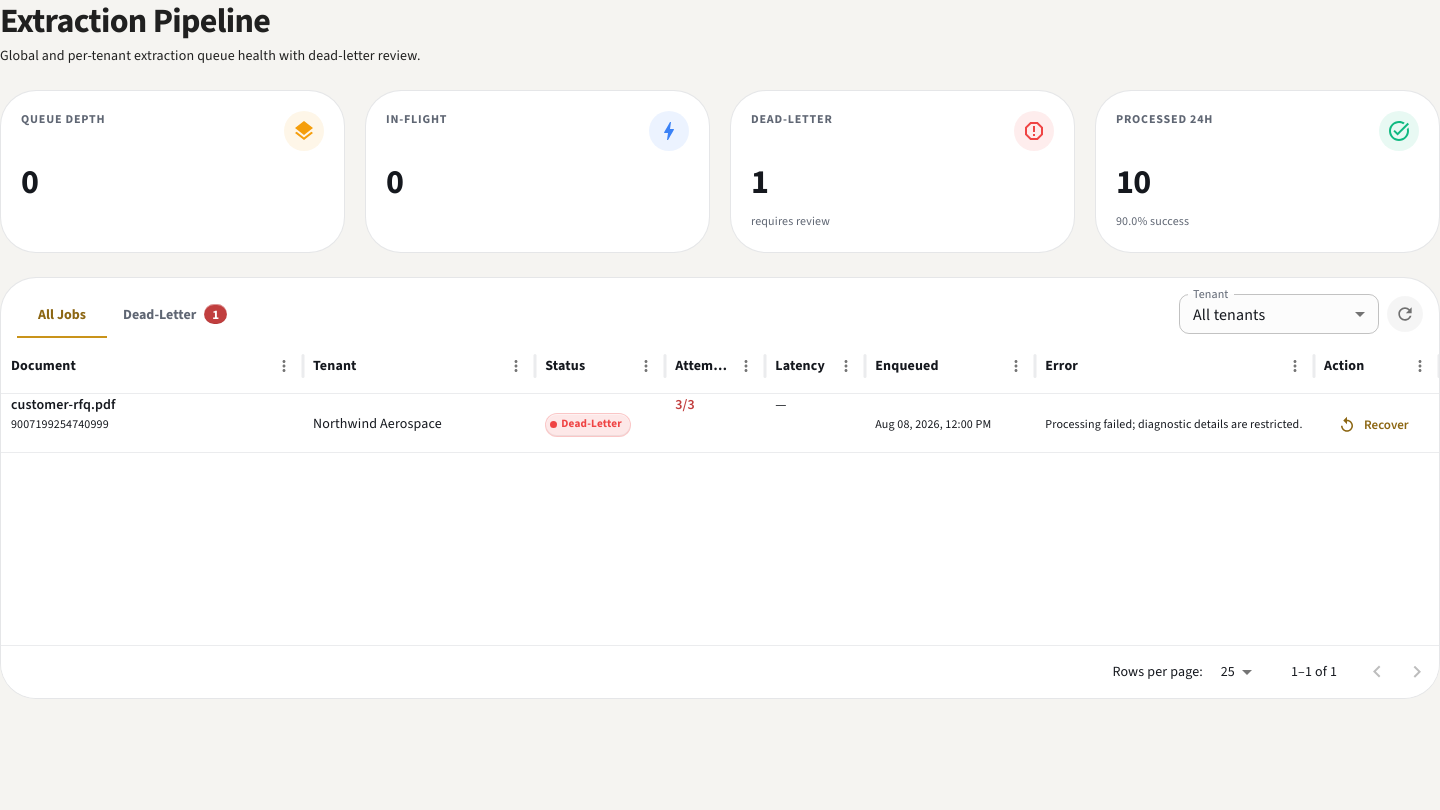
Scenario: platform dead-letter recovery › surfaces the server MFA denial without claiming a retry was queued
This screenshot has width=1440, height=810.
Step 1. Click the button "Recover" → {"x": 1374, "y": 425}, box [1324,403,1425,447]
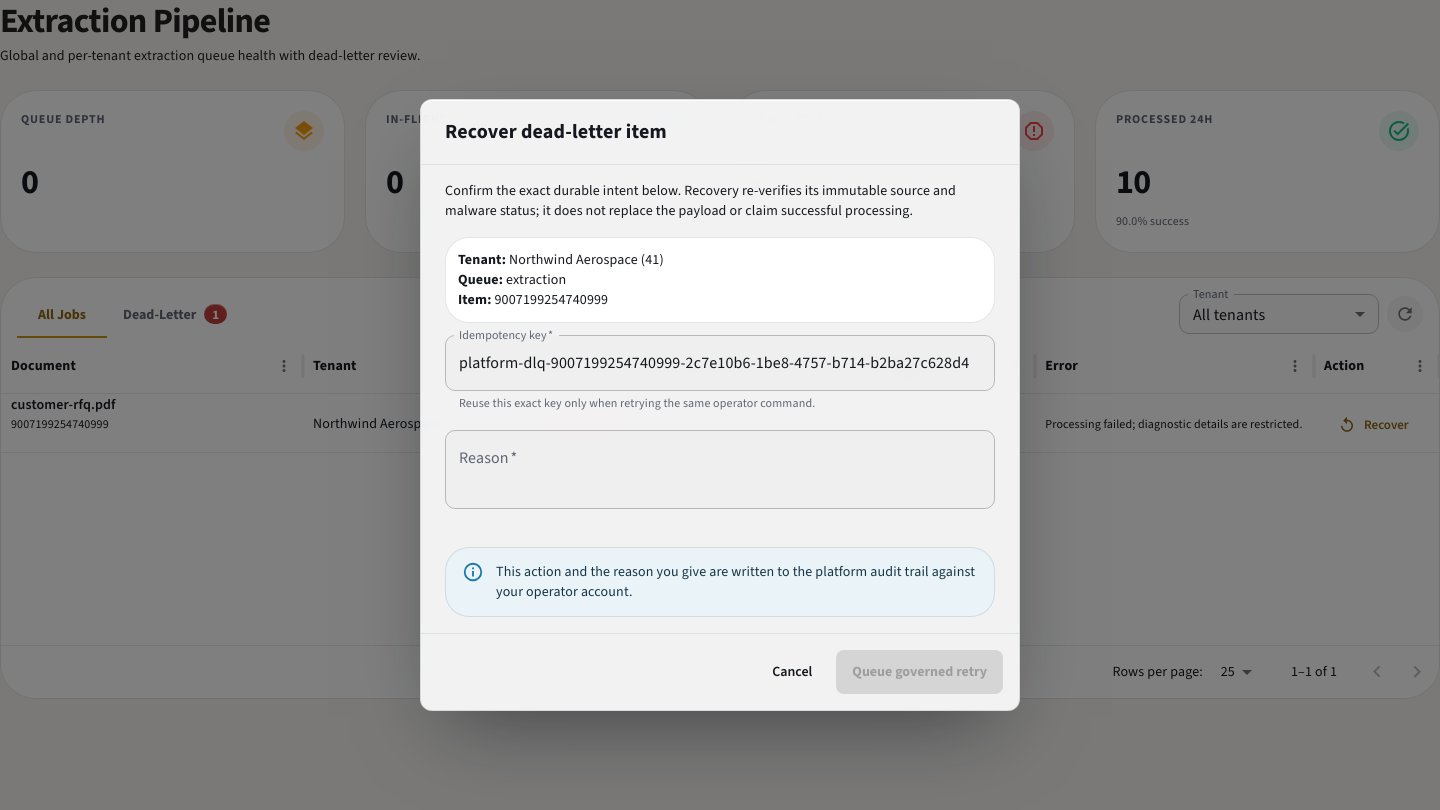
Step 2. Type "Dependency repaired and evidence verified." into the text box → {"x": 720, "y": 469}, box [459,446,981,492]
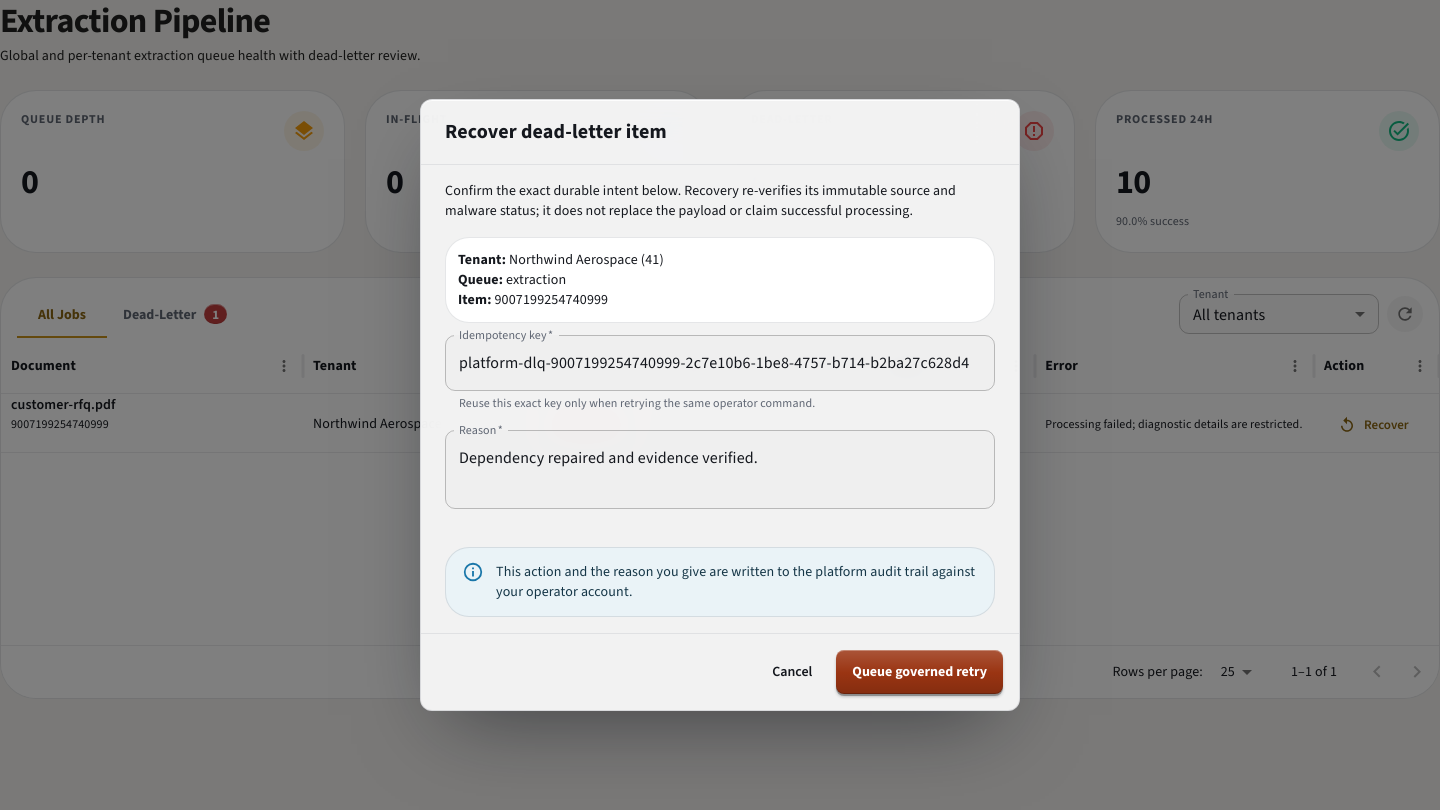
Step 3. Click the button "Queue governed retry" → {"x": 920, "y": 672}, box [836,650,1003,694]
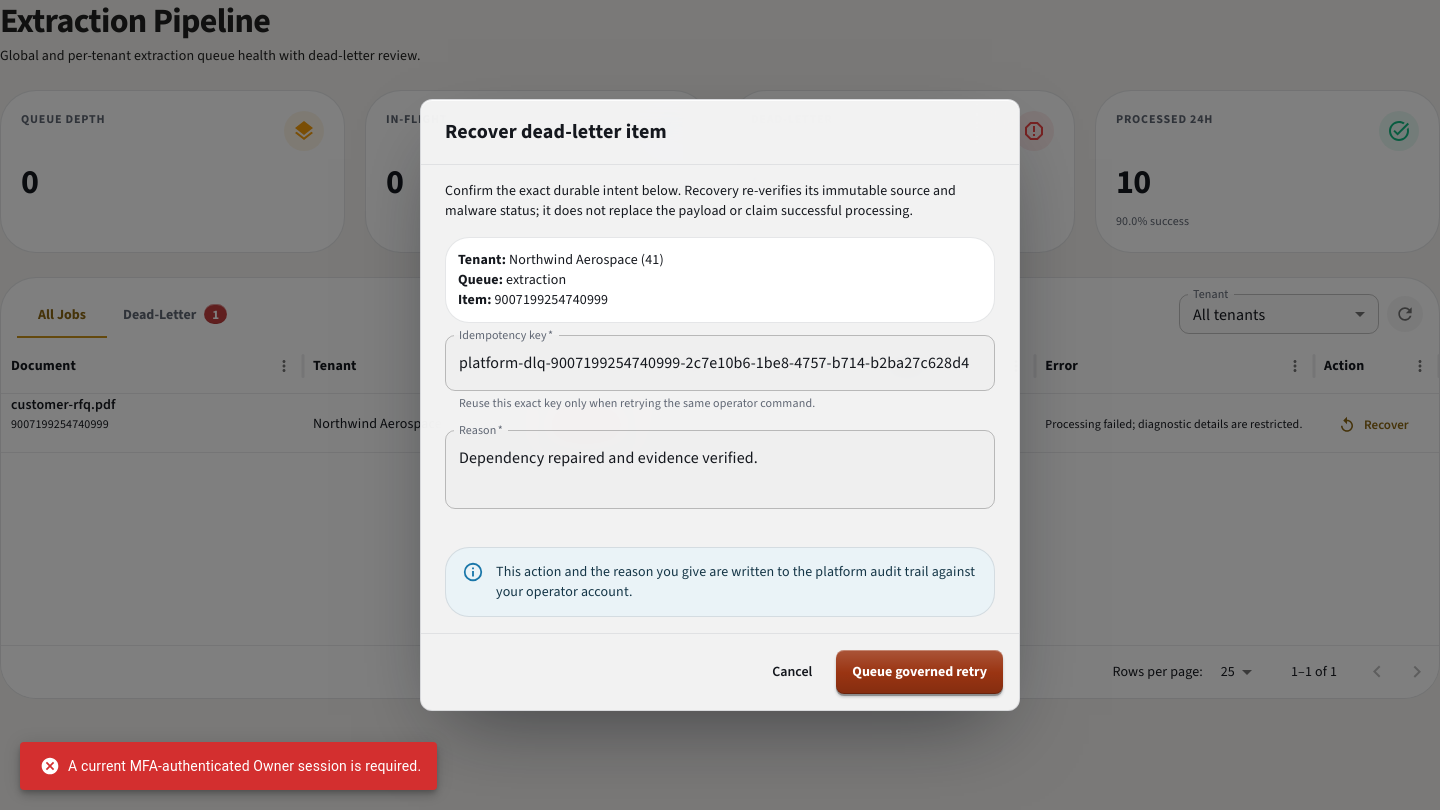
Now the text "A current MFA-authenticated Owner session is required." is shown, box [40,756,421,776]
